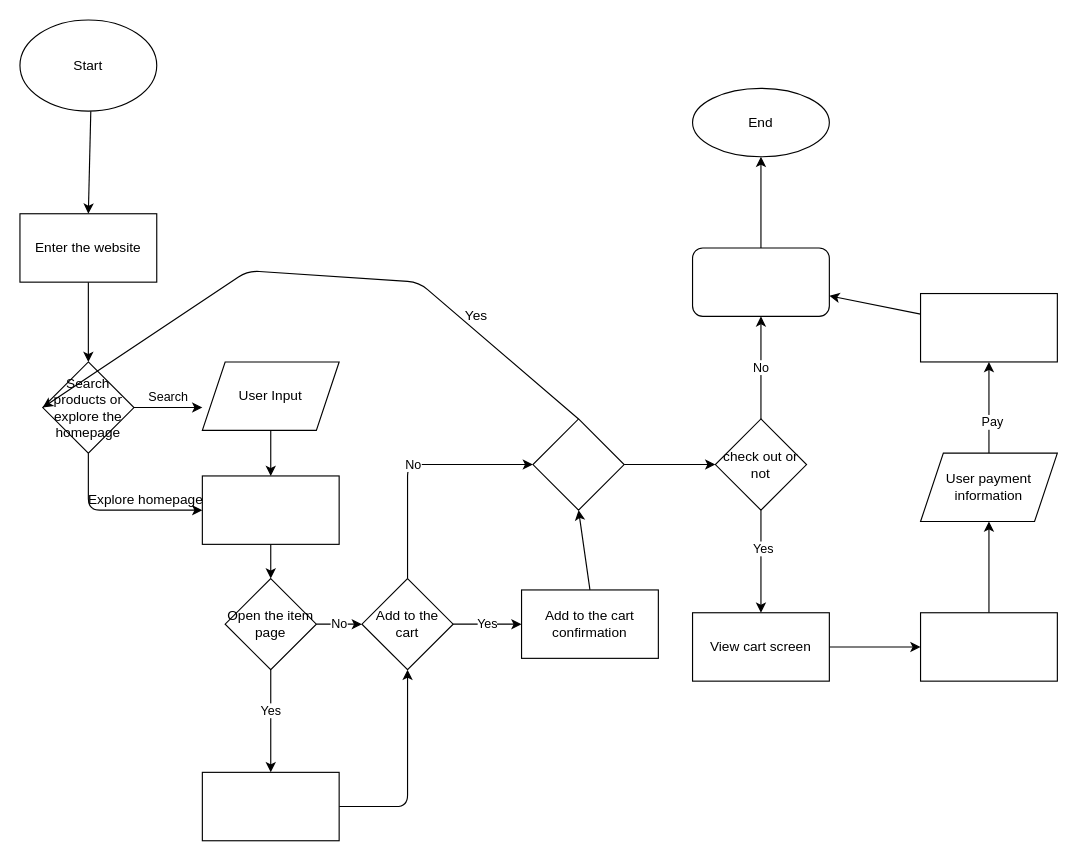
The diagram is 1077 pixels wide and 861 high, and some of its shapes have lost their labels. The shapes that lost their labels are listed below. From the top down, each one's centre as x and y in pixels, then its label:
pixel 760 281: Leave the website
pixel 988 327: Order confirmation and recieve email
pixel 578 464: continue shopping or not
pixel 270 509: Looking over products
pixel 988 646: View payment screen
pixel 270 806: Open the webpage
